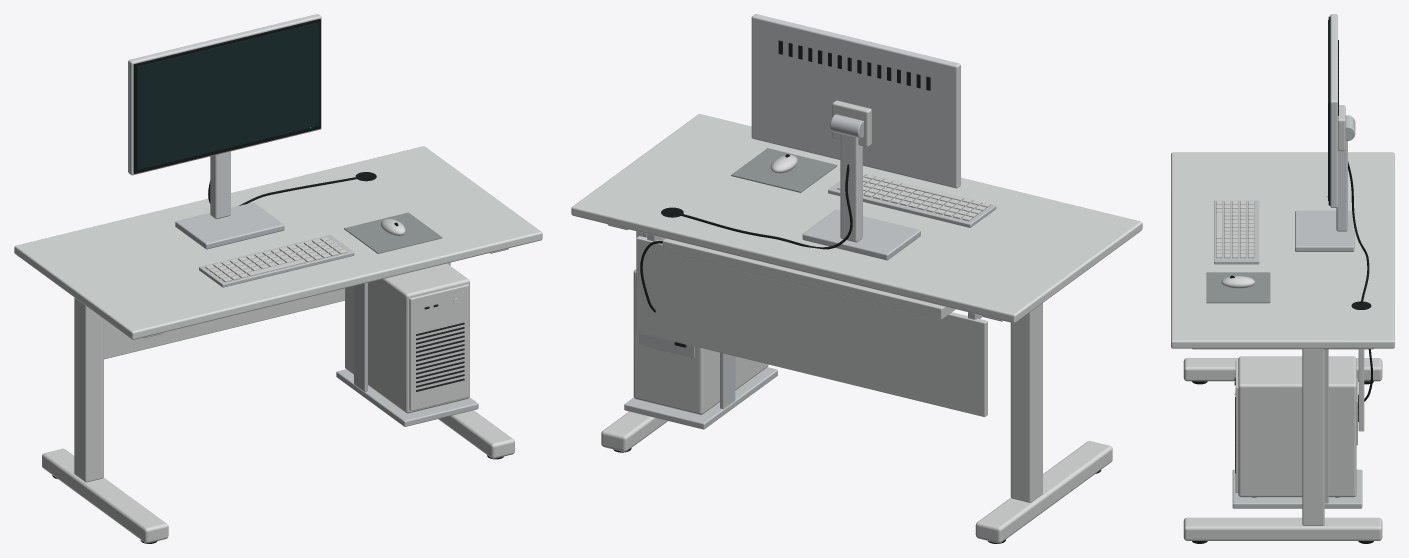
Rendered from computer-workstation.glb.
3 renders of one model, left to right at view 1: azimuth 30°, elevation 25°; view 2: azimuth 150°, elevation 25°; view 3: azimuth 270°, elevation 25°, orthographic. The views are drawn at different scales.
Visible parts, largest first — view 1: Runtime batch - Light laboratory laminate, Runtime batch - Warm gray powder coat highlight, Runtime batch - Low-glare instrument display, Runtime batch - Porcelain white instrument enamel, Runtime batch - Studio-readable satin stainless steel, Runtime batch - Satin anodized aluminum, Runtime batch - Black leveling-foot rubber, Runtime batch - Powder coat service gray, Runtime batch - Casework seam shadow; view 2: Runtime batch - Warm gray powder coat highlight, Runtime batch - Light laboratory laminate, Runtime batch - Satin anodized aluminum, Runtime batch - Porcelain white instrument enamel, Runtime batch - Studio-readable satin stainless steel, Runtime batch - Powder coat service gray, Runtime batch - Black leveling-foot rubber, Runtime batch - Casework seam shadow; view 3: Runtime batch - Light laboratory laminate, Runtime batch - Porcelain white instrument enamel, Runtime batch - Warm gray powder coat highlight, Runtime batch - Studio-readable satin stainless steel, Runtime batch - Satin anodized aluminum, Runtime batch - Powder coat service gray, Runtime batch - Black leveling-foot rubber.
Boxes of the visible parts, bbox=[...] form: Runtime batch - Light laboratory laminate: bbox=[14, 146, 542, 339]; Runtime batch - Warm gray powder coat highlight: bbox=[42, 248, 514, 543]; Runtime batch - Low-glare instrument display: bbox=[136, 22, 319, 170]; Runtime batch - Porcelain white instrument enamel: bbox=[205, 218, 469, 413]; Runtime batch - Studio-readable satin stainless steel: bbox=[175, 202, 478, 426]; Runtime batch - Satin anodized aluminum: bbox=[128, 14, 458, 303]; Runtime batch - Black leveling-foot rubber: bbox=[52, 19, 503, 543]; Runtime batch - Powder coat service gray: bbox=[344, 212, 442, 253]; Runtime batch - Casework seam shadow: bbox=[416, 304, 464, 391]; Runtime batch - Warm gray powder coat highlight: bbox=[601, 100, 1112, 543]; Runtime batch - Light laboratory laminate: bbox=[571, 114, 1142, 323]; Runtime batch - Satin anodized aluminum: bbox=[751, 14, 960, 242]; Runtime batch - Porcelain white instrument enamel: bbox=[633, 155, 990, 414]; Runtime batch - Studio-readable satin stainless steel: bbox=[624, 114, 996, 429]; Runtime batch - Powder coat service gray: bbox=[731, 148, 837, 192]; Runtime batch - Black leveling-foot rubber: bbox=[613, 154, 1101, 543]; Runtime batch - Casework seam shadow: bbox=[674, 40, 930, 347]; Runtime batch - Light laboratory laminate: bbox=[1171, 152, 1394, 348]; Runtime batch - Porcelain white instrument enamel: bbox=[1216, 201, 1356, 497]; Runtime batch - Warm gray powder coat highlight: bbox=[1183, 105, 1382, 540]; Runtime batch - Studio-readable satin stainless steel: bbox=[1214, 115, 1362, 508]; Runtime batch - Satin anodized aluminum: bbox=[1234, 14, 1347, 394]; Runtime batch - Powder coat service gray: bbox=[1206, 272, 1270, 303]; Runtime batch - Black leveling-foot rubber: bbox=[1192, 16, 1373, 543].
Bounding box in the file's own units: 1.4 × 1.35 × 0.7.
